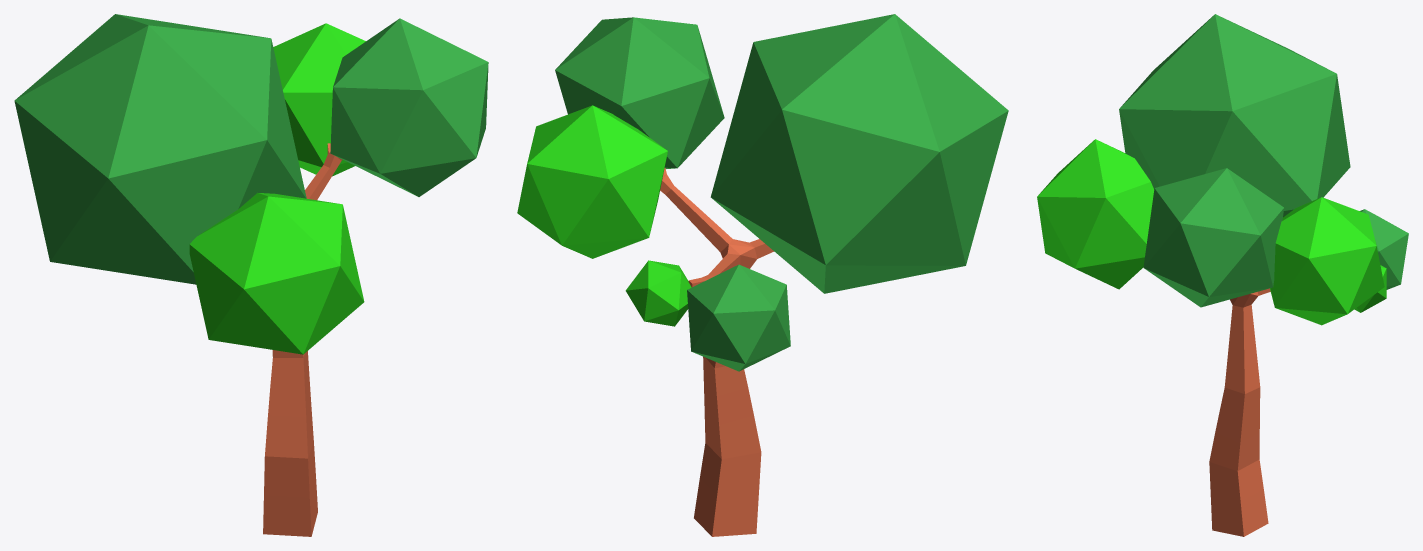
File: arvore3.glb
3 views of the same model, side by side, from view 1: azimuth 30°, elevation 25°; view 2: azimuth 150°, elevation 25°; view 3: azimuth 270°, elevation 25° (orthographic). The views are drawn at different scales.
Visible parts, largest first — view 1: Leaves.005, Leaves.004, Leaves.003, Arvore 1, Leaves.002; view 2: Leaves.005, Leaves.002, Leaves.003, Arvore 1, Leaves, Leaves.001; view 3: Leaves.005, Leaves.003, Leaves.004, Leaves.002, Arvore 1, Leaves.
Boxes of the visible parts, left/top/right/bottom form: Leaves.005: left=14, top=14, right=306, bottom=284; Leaves.004: left=189, top=193, right=364, bottom=354; Leaves.003: left=330, top=18, right=488, bottom=196; Arvore 1: left=263, top=143, right=342, bottom=536; Leaves.002: left=273, top=23, right=365, bottom=176; Leaves.005: left=710, top=14, right=1008, bottom=293; Leaves.002: left=517, top=105, right=667, bottom=258; Leaves.003: left=555, top=17, right=724, bottom=168; Arvore 1: left=660, top=168, right=773, bottom=536; Leaves: left=687, top=264, right=790, bottom=371; Leaves.001: left=625, top=260, right=691, bottom=326; Leaves.005: left=1119, top=14, right=1350, bottom=217; Leaves.003: left=1143, top=168, right=1283, bottom=307; Leaves.004: left=1037, top=139, right=1154, bottom=289; Leaves.002: left=1270, top=197, right=1384, bottom=325; Arvore 1: left=1209, top=288, right=1270, bottom=536; Leaves: left=1360, top=209, right=1408, bottom=289.
Bounding box in the file's own units: 6.63 × 8.22 × 6.13.
